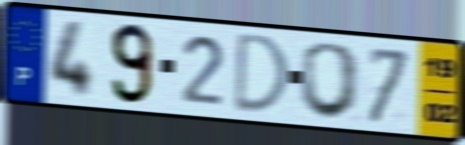2: (179, 33, 226, 108)
4: (47, 17, 99, 101)
7: (367, 46, 412, 125)
9: (107, 21, 158, 108)
D: (231, 31, 293, 115)
O: (296, 40, 364, 121)
